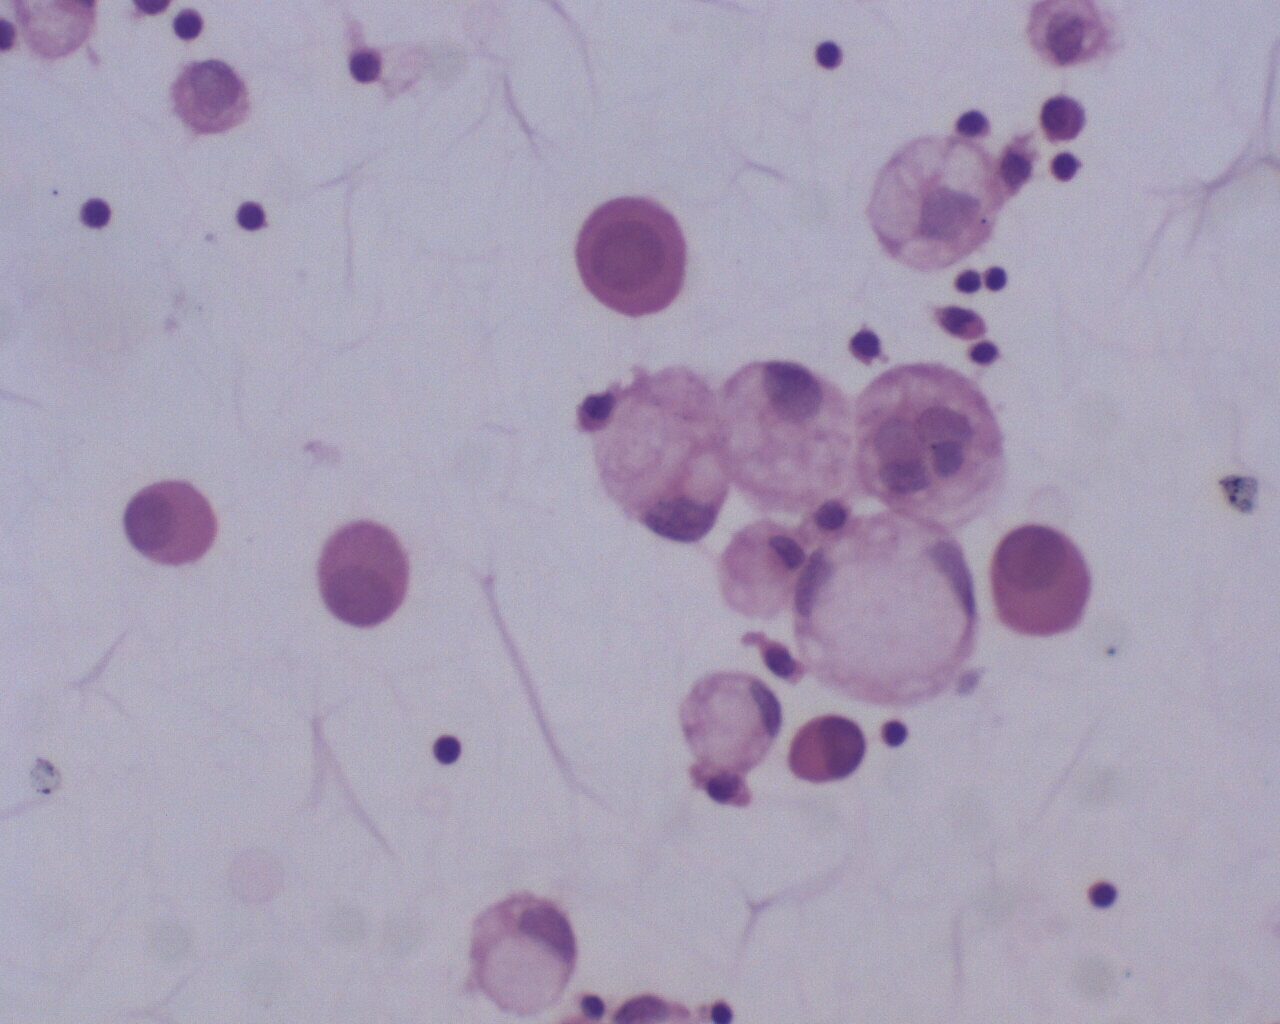ab: (586, 363, 738, 545), (864, 125, 1001, 272), (574, 191, 699, 326), (316, 517, 428, 642), (985, 523, 1096, 643), (118, 478, 224, 574), (787, 703, 866, 786)
histo: (791, 509, 975, 713), (721, 355, 868, 517), (459, 892, 583, 1016), (677, 661, 789, 779), (712, 514, 815, 618)
lymph: (75, 193, 121, 235), (232, 191, 277, 231), (811, 36, 850, 80)
